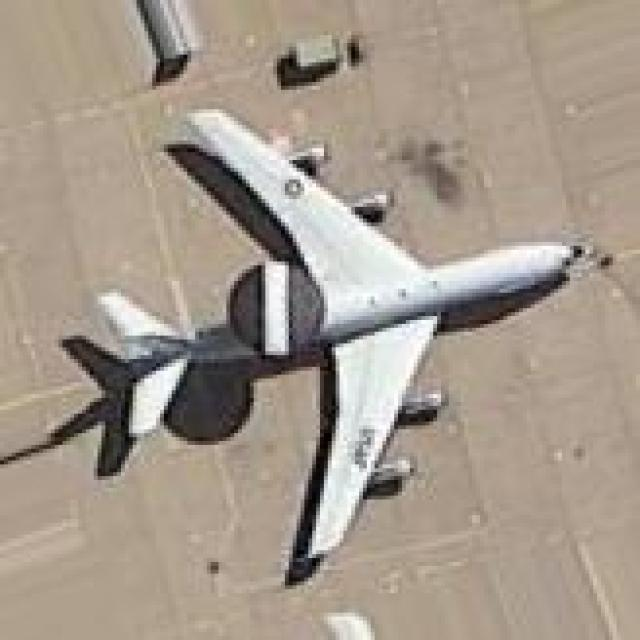E-3_TopDown: (4, 102, 601, 586)
